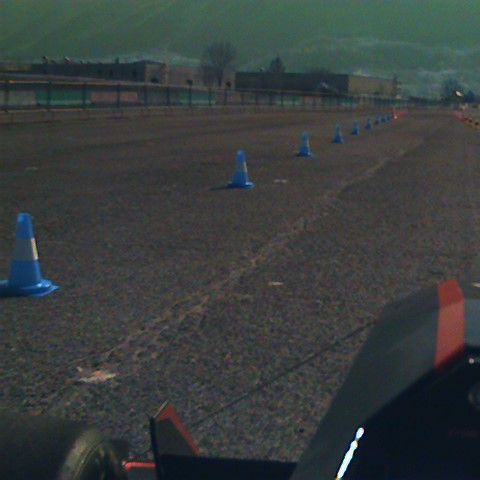cone: (1, 212, 62, 298), (230, 151, 255, 187), (298, 133, 313, 156), (330, 122, 343, 141), (348, 121, 360, 135)
